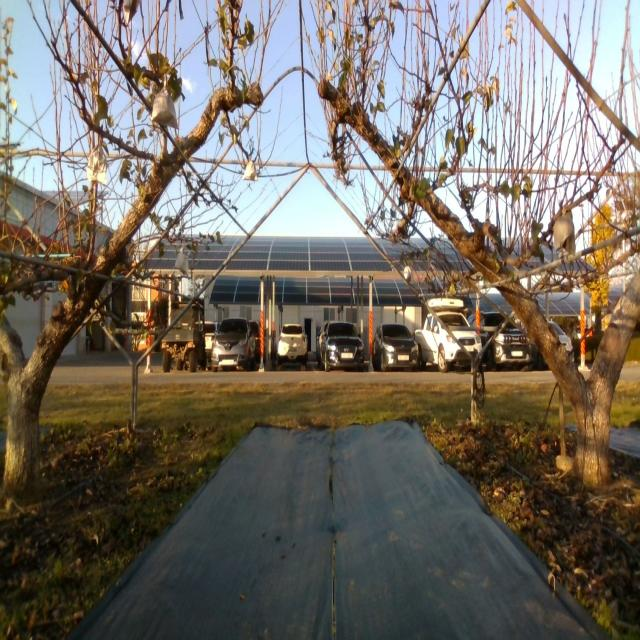pearbags: (151, 88, 179, 130), (553, 214, 575, 255), (88, 144, 108, 184), (175, 252, 189, 276), (243, 161, 258, 182)
